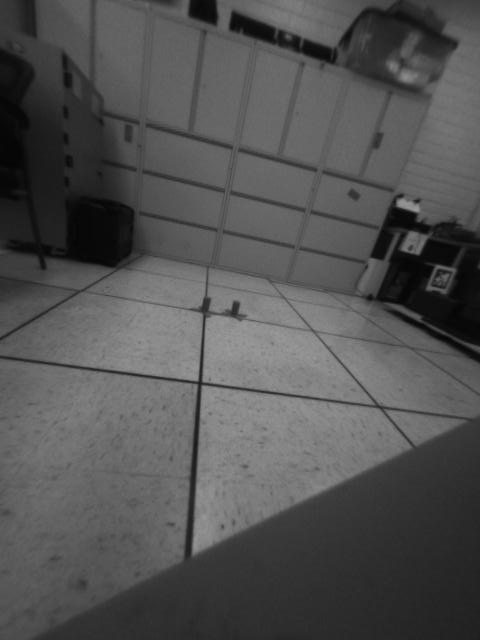X: (190, 296, 220, 319), (220, 300, 250, 323)
